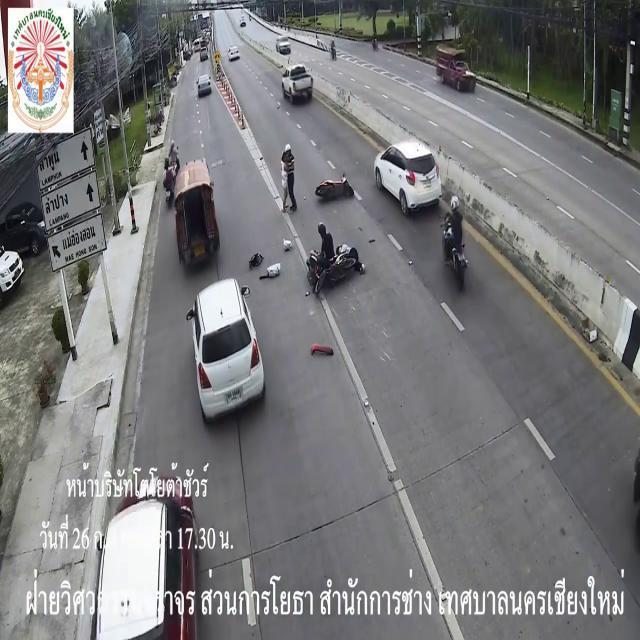multiple_accident: (260, 137, 379, 306)
normal: (123, 474, 210, 630), (169, 9, 320, 89), (184, 283, 260, 417), (144, 123, 227, 244), (359, 136, 456, 204), (430, 40, 483, 94), (259, 44, 314, 91)
